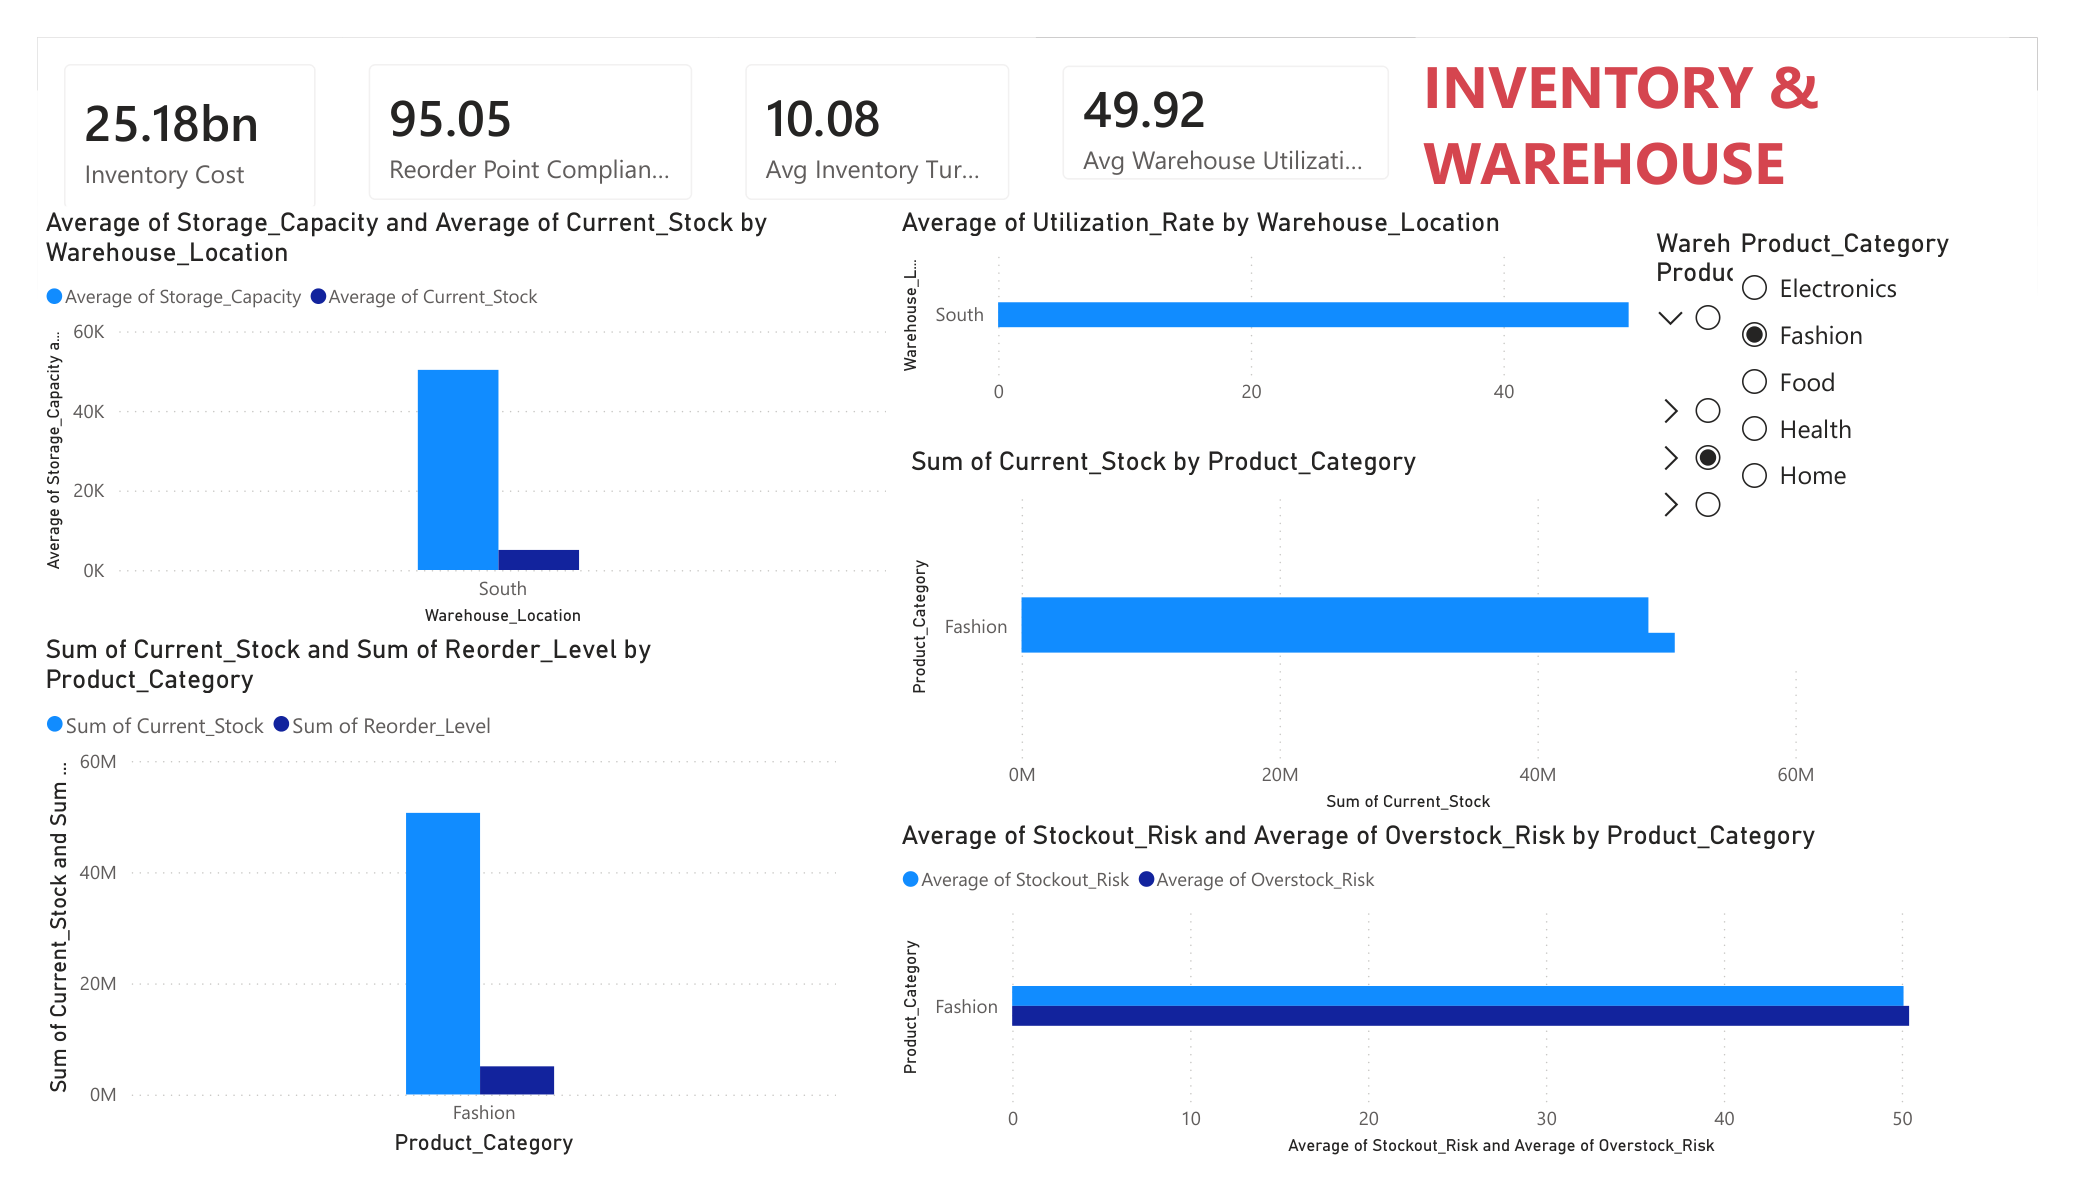

The page's visual inventory and layout, read from the dashboard file:
{"tool":"powerbi","page":{"name":"Inventory & warehouse analysis","canvas":[1280,720],"ordinal":1},"visuals":[{"type":"cardVisual","fields":{"Data":["DateTable.Inventory Cost"]},"box":[0,0,195.1,126.6],"z":0},{"type":"cardVisual","fields":{"Data":["DateTable.Avg Inventory Turnover"]},"box":[436.4,0,203,121.3],"z":1000},{"type":"cardVisual","fields":{"Data":["DateTable.Reorder Point Compliance %"]},"box":[195.1,0,241.3,121.3],"z":2000},{"type":"clusteredBarChart","fields":{"Category":["SupplyChain.Product_Category"],"Y":["Sum(SupplyChain.Current_Stock)"]},"box":[553.8,261.1,588.1,238.6],"z":3000},{"type":"clusteredColumnChart","fields":{"Category":["SupplyChain.Product_Category"],"Y":["Sum(SupplyChain.Current_Stock)","Sum(SupplyChain.Reorder_Level)"]},"box":[0,381,515.5,338.9],"z":4000},{"type":"clusteredBarChart","fields":{"Category":["SupplyChain.Product_Category"],"Y":["Avg(SupplyChain.Stockout_Risk)","Avg(SupplyChain.Overstock_Risk)"]},"box":[548.5,499.7,713.3,220.2],"z":5000},{"type":"textbox","box":[882.1,0,379.7,108.1],"z":6000},{"type":"listSlicer","fields":{"Values":["SupplyChain.Warehouse_Location","SupplyChain.Product_Category"]},"box":[1031.1,121.3,249.2,259.7],"z":7000},{"type":"cardVisual","fields":{"Data":["DateTable.Avg Warehouse Utilization %"]},"box":[639.5,1.3,242.6,106.8],"z":8000},{"type":"clusteredBarChart","fields":{"Category":["SupplyChain.Warehouse_Location"],"Y":["Avg(SupplyChain.Utilization_Rate)"]},"box":[548.5,108.1,482.6,137.1],"z":9000},{"type":"clusteredColumnChart","fields":{"Category":["SupplyChain.Warehouse_Location"],"Y":["Avg(SupplyChain.Storage_Capacity)","Avg(SupplyChain.Current_Stock)"]},"box":[0,108.1,548.5,272.9],"z":10000},{"type":"listSlicer","fields":{"Values":["SupplyChain.Product_Category"]},"box":[1085,121,195,283],"z":10001}]}

Visuals, with their boxes on the page's 1280x720 design canvas (x1, y1, x2, y2). These are canvas units, not pixel positions in the 2075x1200 screenshot, which may show the page scaled, cropped or inside an application window:
cardVisual - DateTable.Inventory Cost: region(0, 0, 195, 127)
cardVisual - DateTable.Avg Inventory Turnover: region(436, 0, 639, 121)
cardVisual - DateTable.Reorder Point Compliance %: region(195, 0, 436, 121)
clusteredBarChart - SupplyChain.Product_Category x Sum(SupplyChain.Current_Stock): region(554, 261, 1142, 500)
clusteredColumnChart - SupplyChain.Product_Category x Sum(SupplyChain.Current_Stock): region(0, 381, 516, 720)
clusteredBarChart - SupplyChain.Product_Category x Avg(SupplyChain.Stockout_Risk): region(548, 500, 1262, 720)
textbox: region(882, 0, 1262, 108)
listSlicer - SupplyChain.Warehouse_Location x SupplyChain.Product_Category: region(1031, 121, 1280, 381)
cardVisual - DateTable.Avg Warehouse Utilization %: region(640, 1, 882, 108)
clusteredBarChart - SupplyChain.Warehouse_Location x Avg(SupplyChain.Utilization_Rate): region(548, 108, 1031, 245)
clusteredColumnChart - SupplyChain.Warehouse_Location x Avg(SupplyChain.Storage_Capacity): region(0, 108, 548, 381)
listSlicer - SupplyChain.Product_Category: region(1085, 121, 1280, 404)
